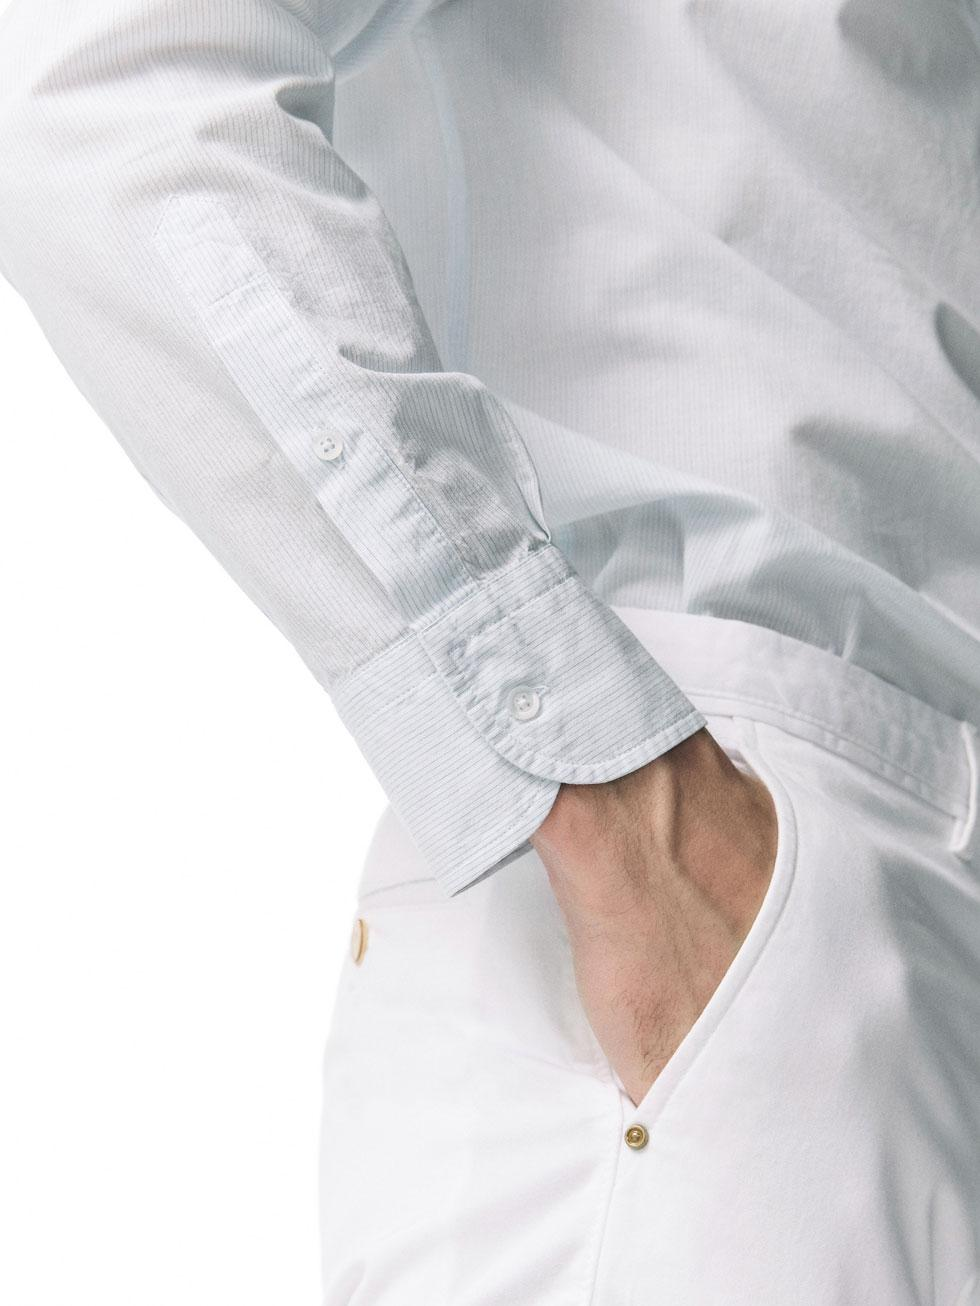teeshirt: (1, 1, 973, 881)
